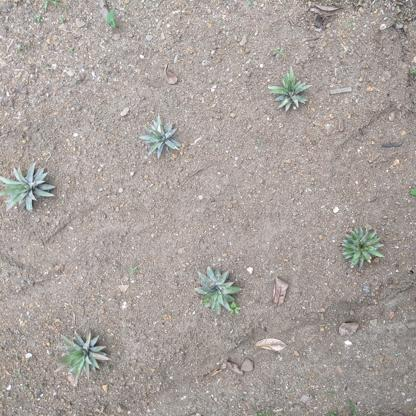pineapple: (54, 327, 114, 387), (192, 264, 245, 319), (1, 163, 58, 211), (268, 65, 315, 117), (339, 224, 389, 270), (137, 115, 181, 162)
